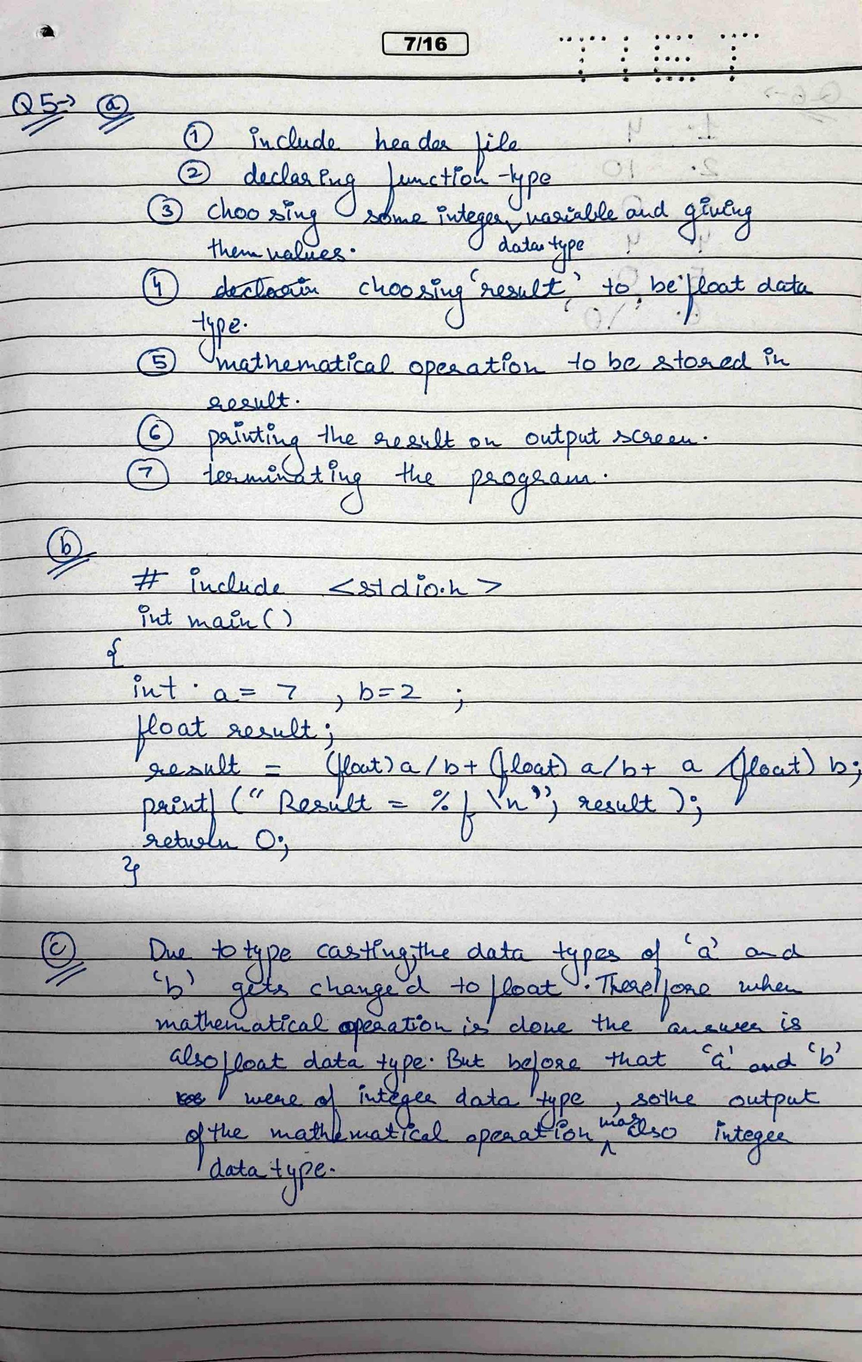cuttings: (211, 274, 320, 300), (175, 1091, 207, 1108)
